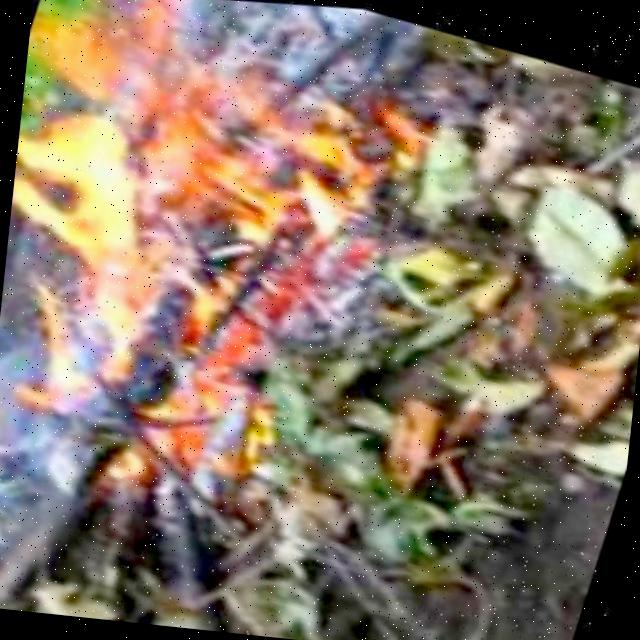fire: (0, 0, 365, 527)
